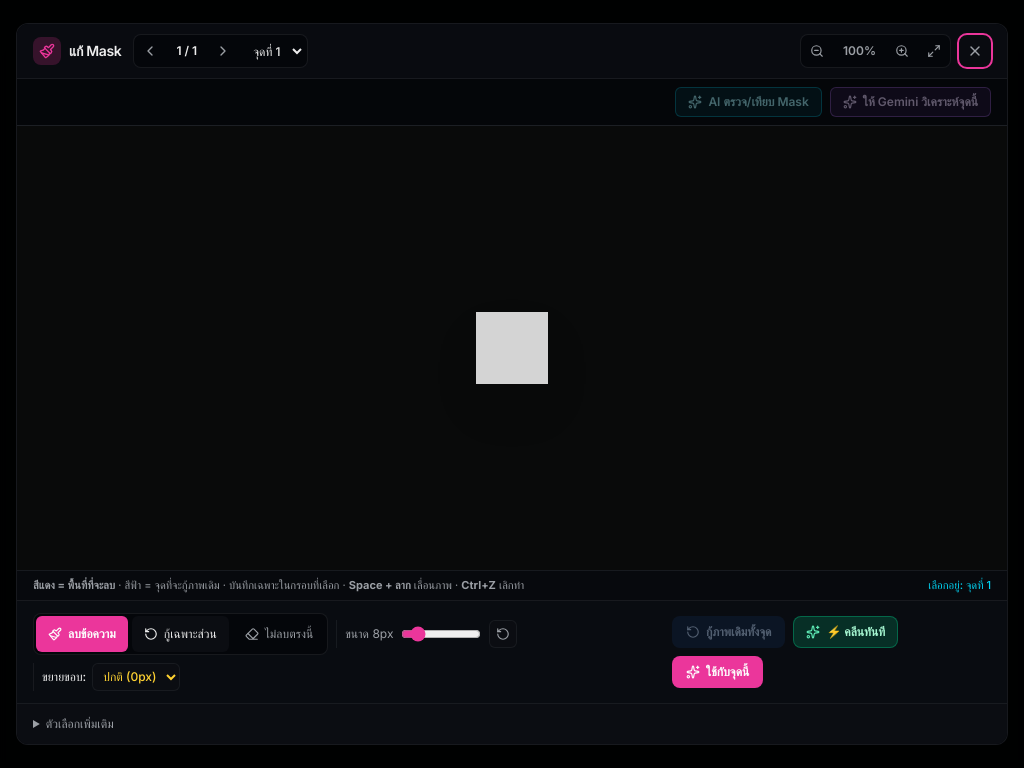
MaskEditor › One-Click Clean stays open and stops when text confirmation fails
Click the button "ใช้กับจุดนี้" at (718, 672), box [672, 656, 763, 688]
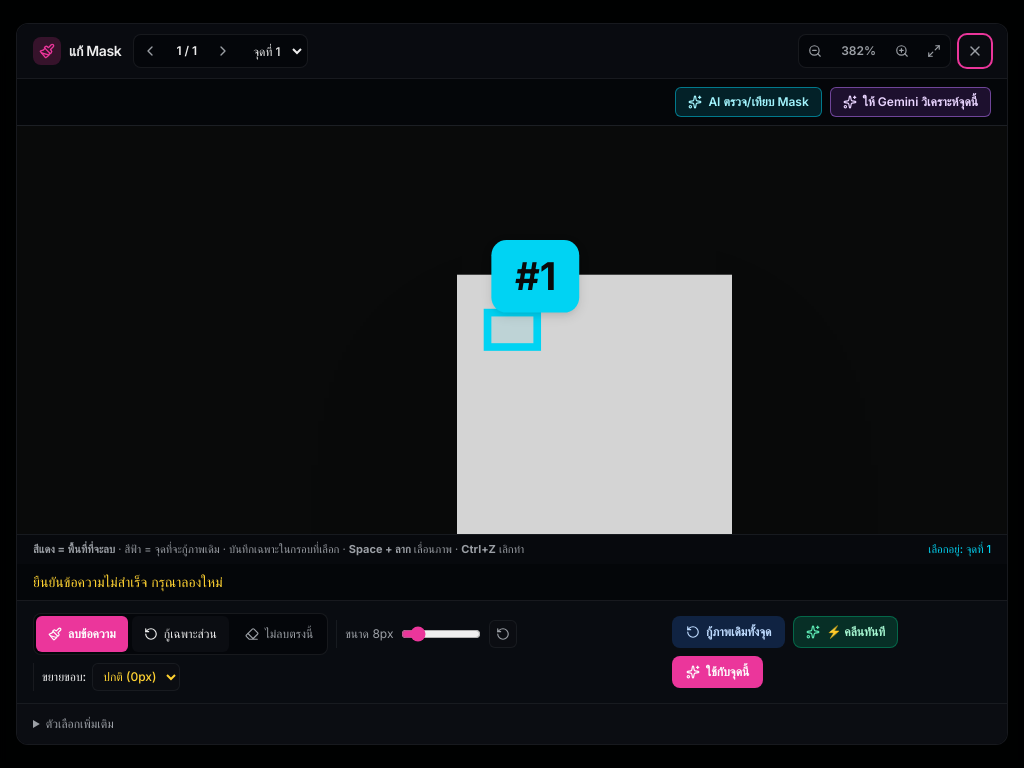
Check: the message reads "ยืนยันข้อความไม่สำเร็จ กรุณาลองใหม่", box [33, 573, 223, 590]
